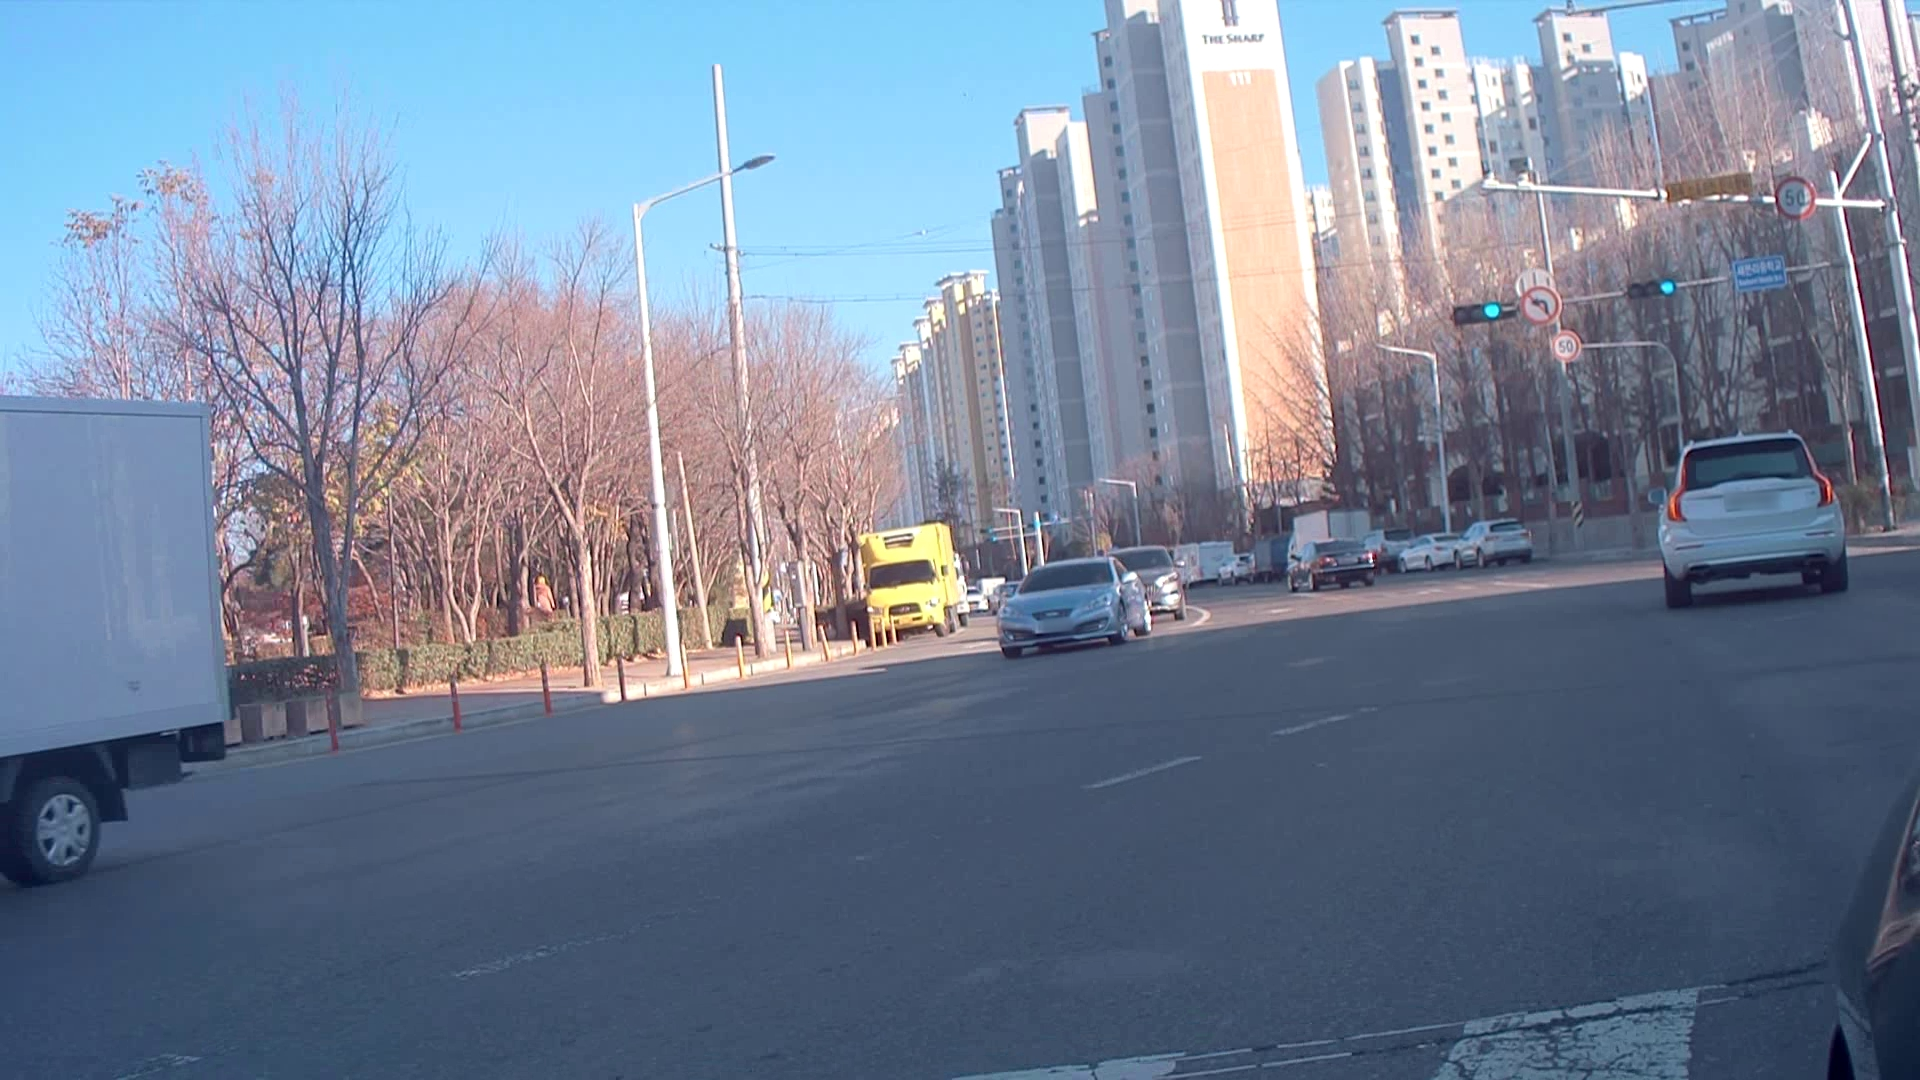trafficLight: (1622, 276, 1681, 302), (1452, 301, 1503, 331)
trafficSignCircle: (1774, 177, 1817, 219), (1519, 287, 1564, 324), (1552, 335, 1581, 363)
